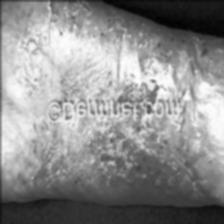Non-Cancerous Skin Condition: (50, 122, 126, 188), (119, 37, 180, 104), (134, 118, 170, 180)
